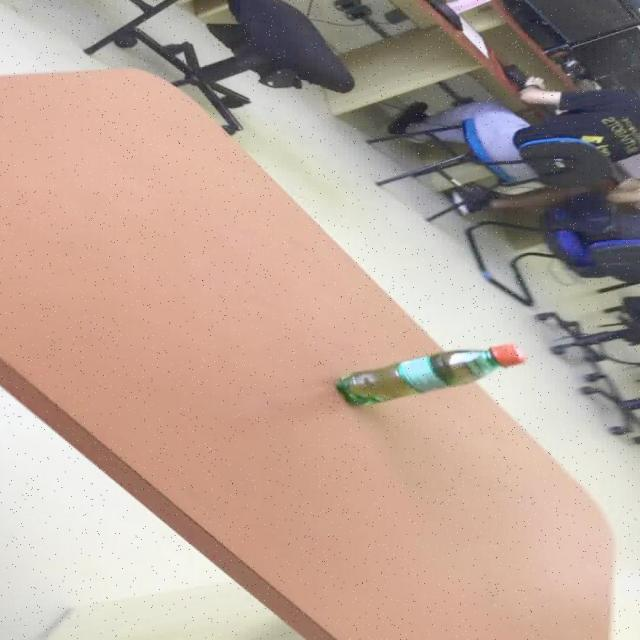Guarana: (335, 341, 528, 407)
